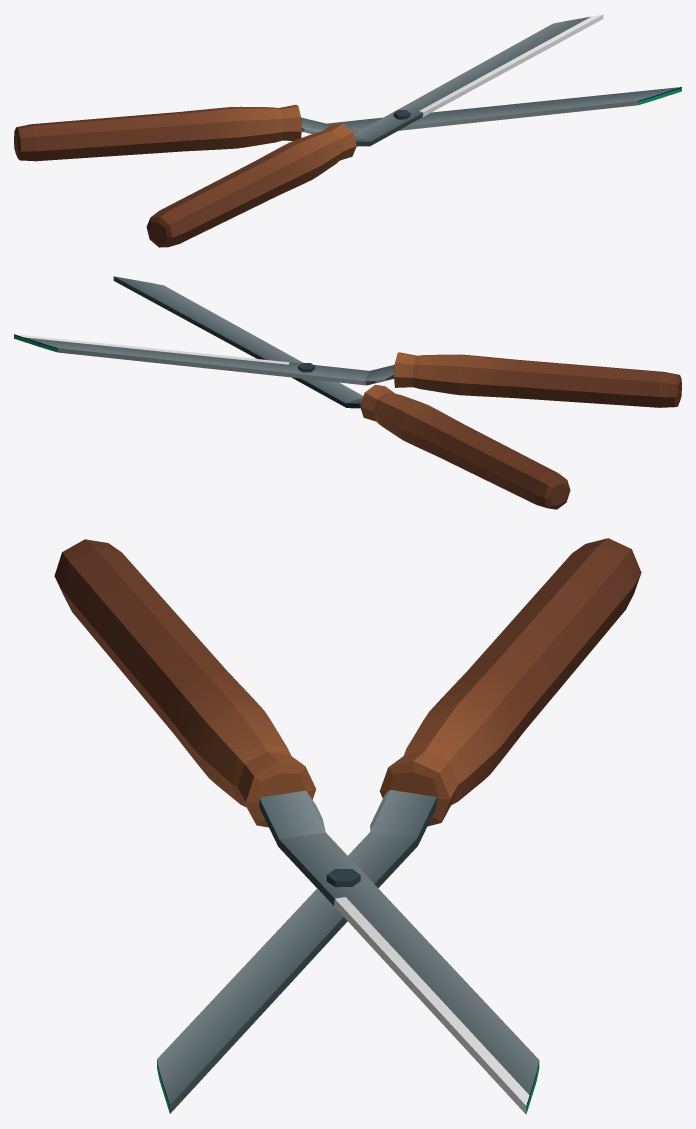
The model's file is Tesoura.fbx.
The picture shows the model from 3 angles, top to bottom: view 1: azimuth 30°, elevation 25°; view 2: azimuth 150°, elevation 25°; view 3: azimuth 270°, elevation 25°; orthographic projection. The views are drawn at different scales.
Parts seen in each view (by area): view 1: Cube.006; view 2: Cube.006; view 3: Cube.006.
Boxes of the visible parts, x1=… form: Cube.006: x1=14, y1=14, x2=681, y2=247; Cube.006: x1=14, y1=276, x2=681, y2=509; Cube.006: x1=54, y1=538, x2=641, y2=1114.
Bounding box in the file's own units: 155 × 11.31 × 69.36.
1 material, 1 textured.
